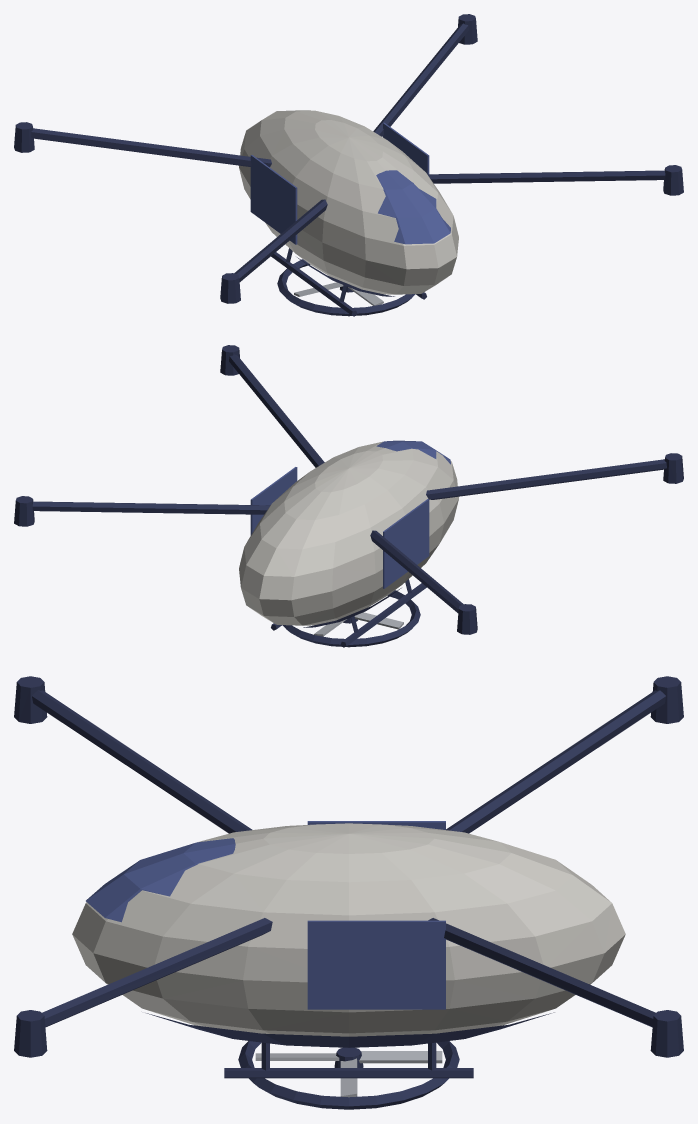
The model's file is flying_taxi.glb.
3 views of the same model, one above another, from view 1: azimuth 30°, elevation 25°; view 2: azimuth 150°, elevation 25°; view 3: azimuth 270°, elevation 25° (orthographic). The views are drawn at different scales.
Parts seen in each view (by area): view 1: body, wheel0; view 2: body, wheel0; view 3: body, wheel0.
Part boxes in pixels (bbox=[...]): body: bbox=[14, 14, 683, 316]; wheel0: bbox=[277, 259, 415, 316]; body: bbox=[14, 345, 683, 647]; wheel0: bbox=[282, 590, 420, 647]; body: bbox=[14, 676, 683, 1078]; wheel0: bbox=[238, 1041, 459, 1109].
Bounding box in the file's own units: 5.94 × 1.86 × 4.84.
